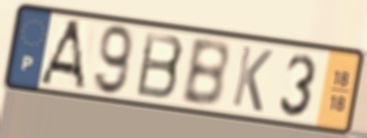3: (277, 52, 318, 120)
9: (93, 22, 136, 98)
A: (36, 17, 87, 93)
B: (133, 29, 187, 102), (178, 38, 232, 110)
K: (229, 43, 276, 115)
